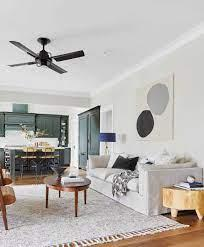chair: (0, 187, 17, 232), (20, 146, 39, 173), (40, 145, 55, 172), (0, 165, 12, 187)
fan: (3, 37, 87, 74)
light: (98, 132, 118, 155), (101, 50, 114, 55)
sofa: (87, 154, 203, 214)
table: (43, 177, 93, 218), (8, 144, 67, 174), (163, 187, 204, 221)
